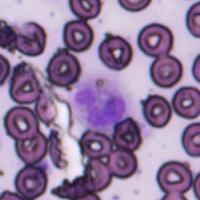N: (69, 72, 134, 131)
